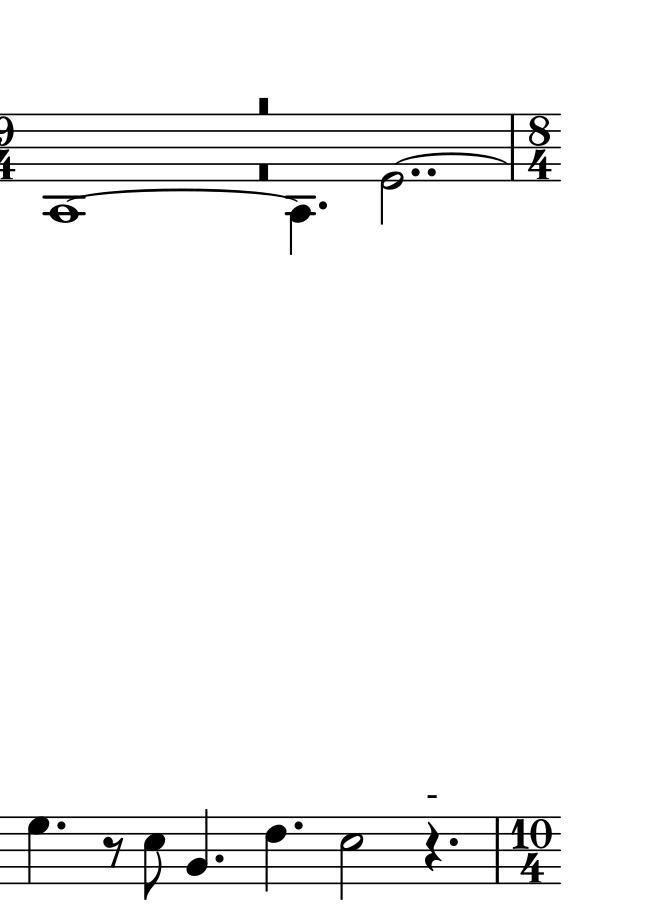0: (527, 815, 552, 850)
1: (510, 817, 528, 851)
1_-4: (45, 112, 83, 226)
2_0: (379, 109, 403, 227)
2_5: (338, 815, 364, 901)
4: (517, 851, 546, 884), (526, 147, 554, 181)
4_-4: (285, 109, 314, 257)
4_2: (185, 807, 210, 886)
4_6: (263, 815, 287, 896)
4_7: (25, 815, 50, 886)
8: (524, 113, 555, 148)
8_5: (140, 815, 167, 902)
Double_dot: (411, 164, 435, 179)
Rests4: (424, 821, 441, 874)
Rests8: (102, 834, 124, 869)
Single_barline: (491, 818, 503, 883)
Slur: (71, 188, 304, 200), (396, 152, 506, 164)
TimeSig: (511, 817, 553, 884), (525, 114, 554, 180)
dot: (316, 198, 330, 212), (291, 818, 305, 832), (54, 819, 67, 832), (212, 852, 225, 865), (447, 836, 459, 847)
